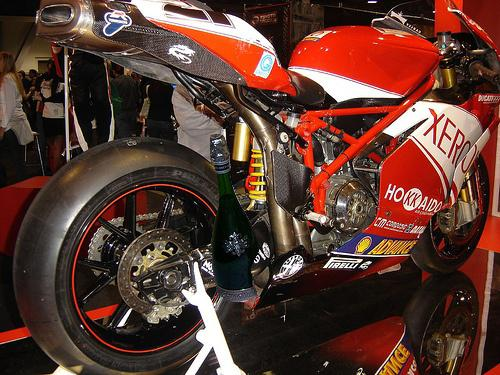tampered: (211, 135, 260, 302)
